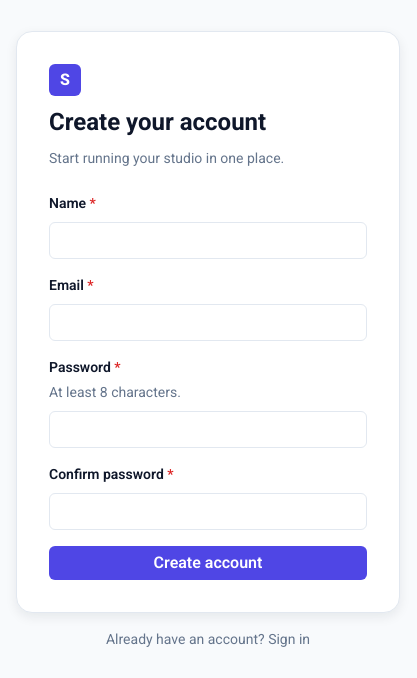
Test: SignupPage › enforces the shared password floor
Check: the heading "Create your account" is shown, box [49,108,266,136]
Type "New Person" into the field labelled "Name" at (208, 240), box [49,222,367,258]
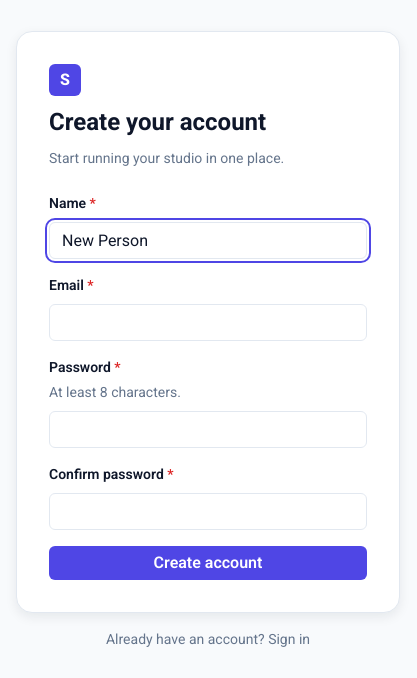
Type "new@studio.test" into the field labelled "Email" at (208, 322), box [49,304,367,340]
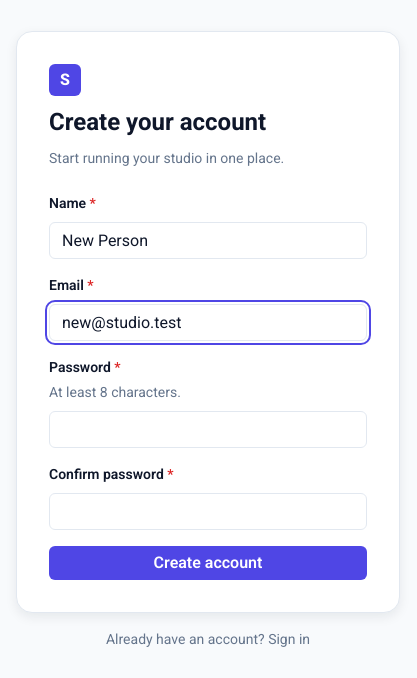
Type "short" into the password field labelled "Password" at (208, 429), box [49,410,367,448]
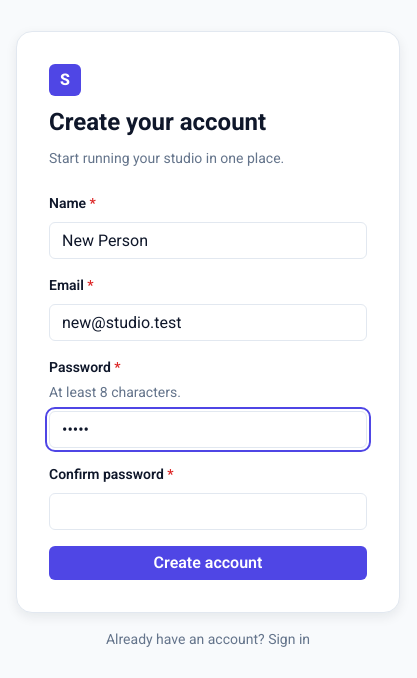
Type "short" into the password field labelled "Confirm password" at (208, 511), box [49,492,367,530]
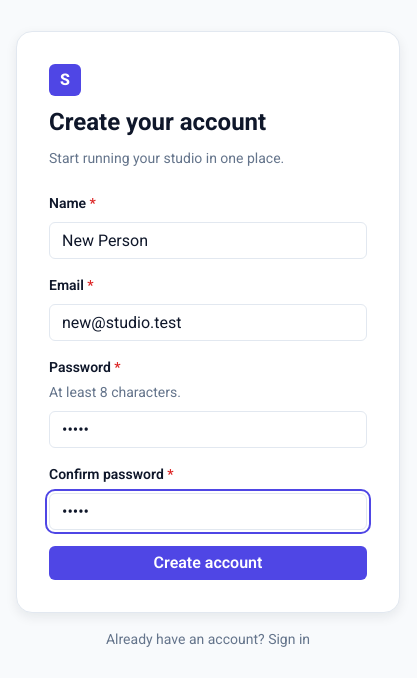
Click the button "Create account" at (208, 562), box [49,546,367,580]
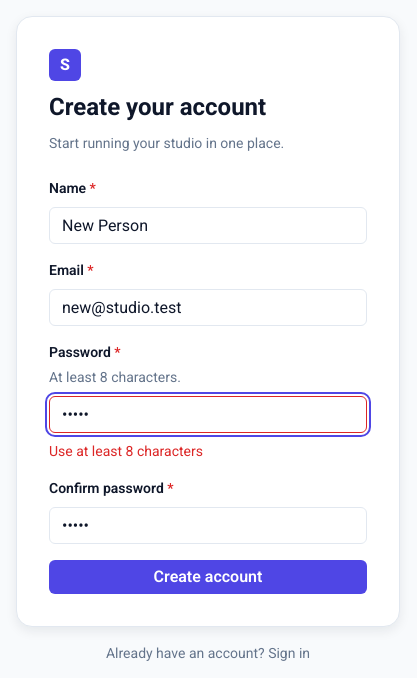
Check: the text "Use at least 8 characters" is shown, box [49,443,203,459]
